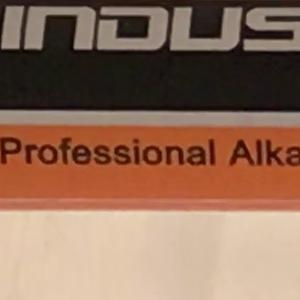ALK: (220, 129, 286, 175)
